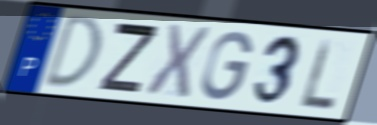3: (249, 31, 305, 109)
D: (40, 13, 103, 90)
G: (199, 29, 256, 103)
L: (298, 37, 338, 112)
X: (142, 22, 213, 100)
Z: (97, 20, 161, 96)
